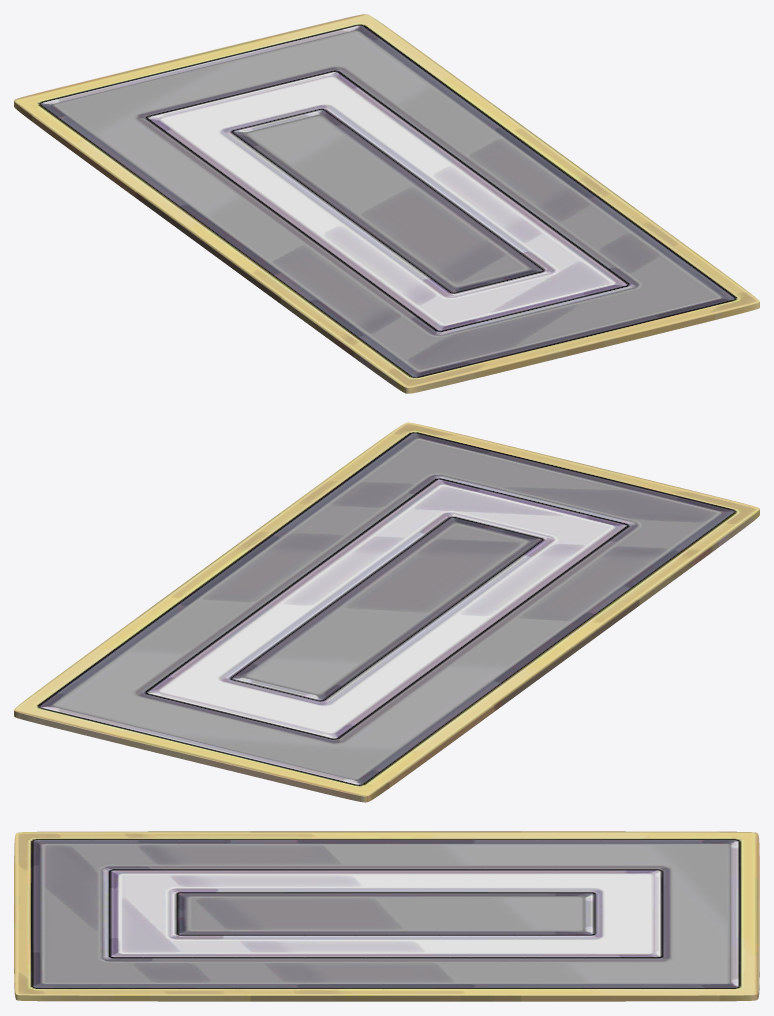
3 views of the same model, one above another, from view 1: azimuth 30°, elevation 25°; view 2: azimuth 150°, elevation 25°; view 3: azimuth 270°, elevation 25° (orthographic). The views are drawn at different scales.
Visible parts, largest first — view 1: path1587; view 2: path1587; view 3: path1587.
Part boxes in pixels (<box>): path1587: <box>14,14,759,393</box>; path1587: <box>14,422,759,802</box>; path1587: <box>14,831,759,1001</box>.
Size of the model in its own units: 95.25 by 1.5 by 183.
Materials: 1 (1 with a texture image).
